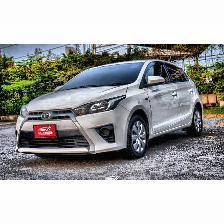NON-EV: (15, 59, 206, 161)
